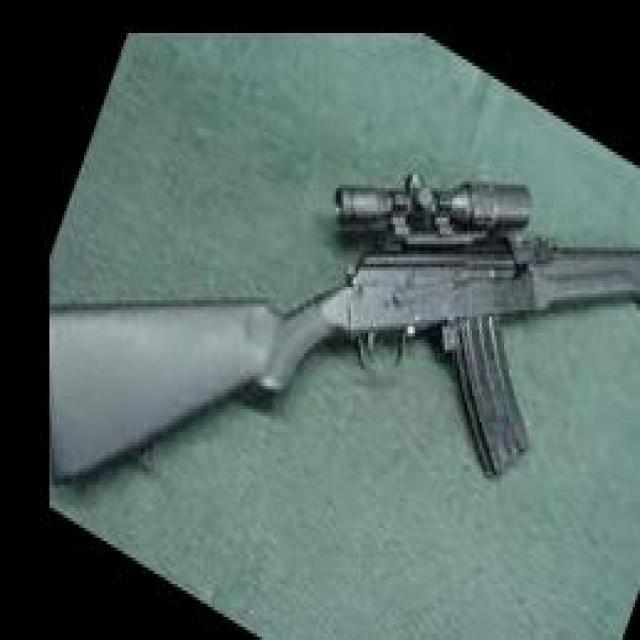weapon: (49, 174, 640, 486)
